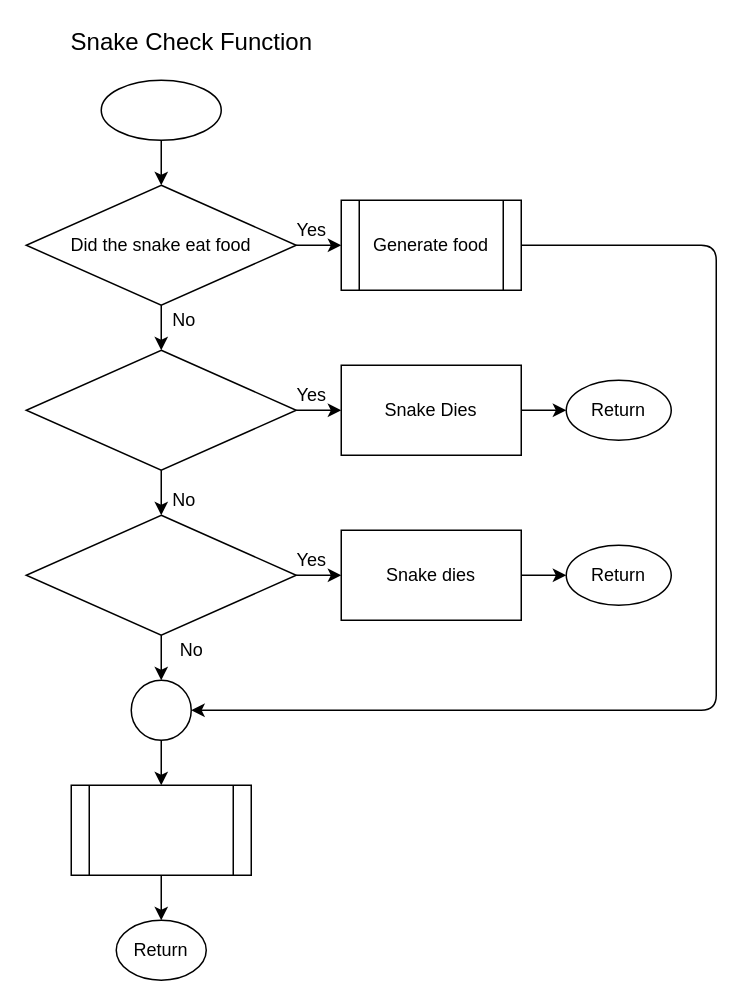
The diagram is 755 pixels wide and 1007 high, and some of its shapes have lost their labels. Here are the shapes that lost their labels. From the top down, the box of each, then its label:
(100, 79, 221, 140): Start
(25, 349, 296, 470): Did the snake hit an obsticle?
(25, 514, 296, 635): Did the snake hit another snakes head?
(70, 784, 251, 875): Draw snake head
